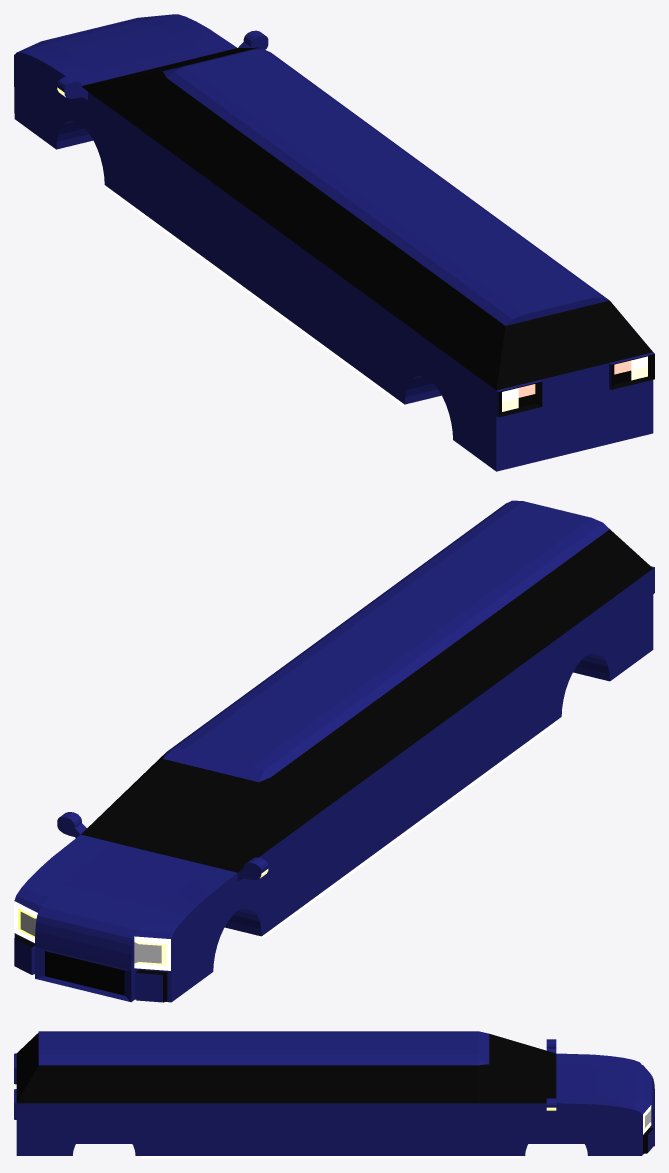
Rendered from LimoBody.glb.
3 views of the same model, one above another, from view 1: azimuth 30°, elevation 25°; view 2: azimuth 150°, elevation 25°; view 3: azimuth 270°, elevation 25° (orthographic). The views are drawn at different scales.
Parts seen in each view (by area): view 1: LimoBody; view 2: LimoBody; view 3: LimoBody.
Boxes of the visible parts, x1=… form: LimoBody: x1=14, y1=14, x2=654, y2=471; LimoBody: x1=14, y1=500, x2=654, y2=1002; LimoBody: x1=14, y1=1031, x2=654, y2=1158.
Size of the model in its own units: 5.26 by 3.42 by 22.04.
